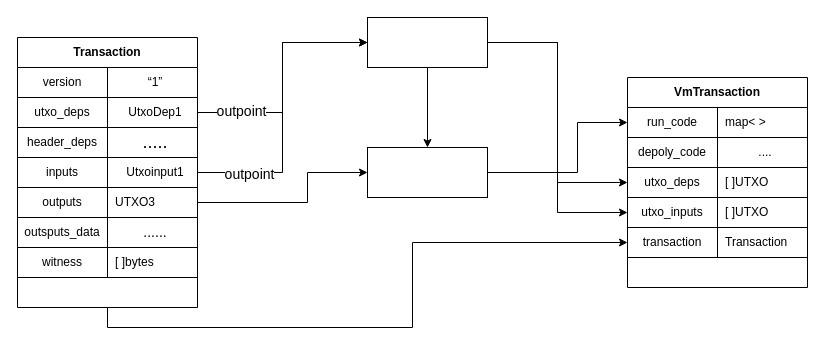
The diagram is 825 pixels wide and 353 high, and some of its shapes have lost their labels. The shapes that lost their labels are listed below. From the top down, each one's centre as x and y in pixels, then its label:
(427,42): «interface» getlistUtxo
(427,172): «interface»(未实现) getByteCodeByHash
